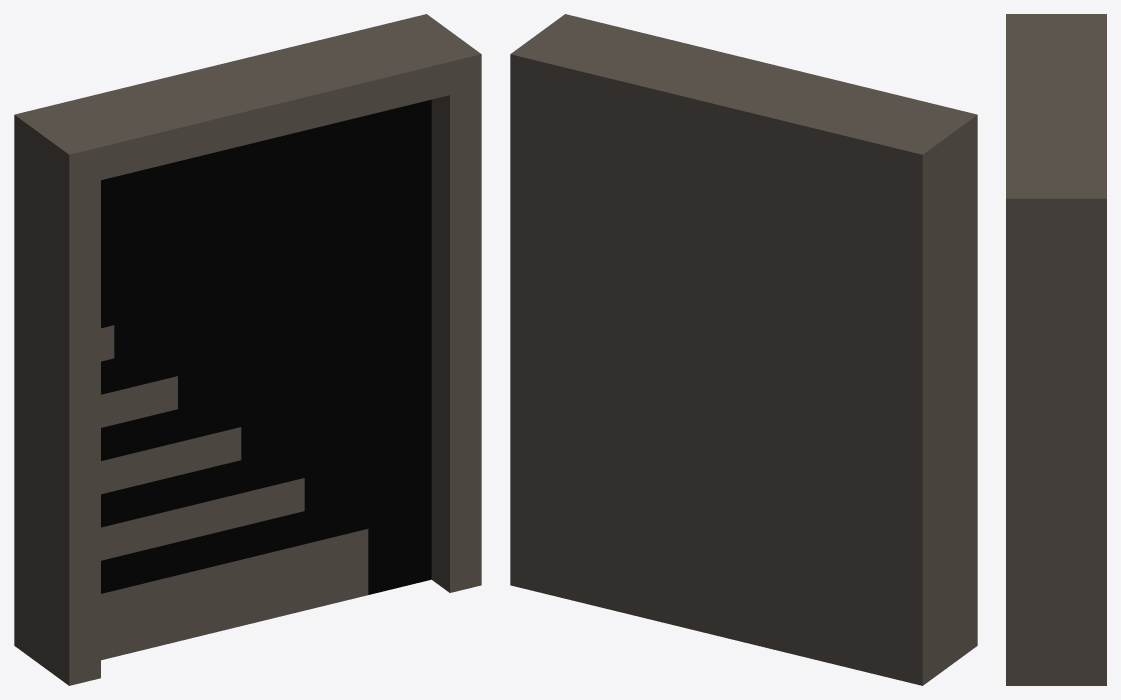
File: dungeon_a_a_entrance_b_flipped.obj
3 renders of one model, left to right at view 1: azimuth 30°, elevation 25°; view 2: azimuth 150°, elevation 25°; view 3: azimuth 270°, elevation 25°, orthographic. The views are drawn at different scales.
Bounding box in the file's own units: 1.3 × 1.6 × 0.3.
Materials: 1 (1 with a texture image).
